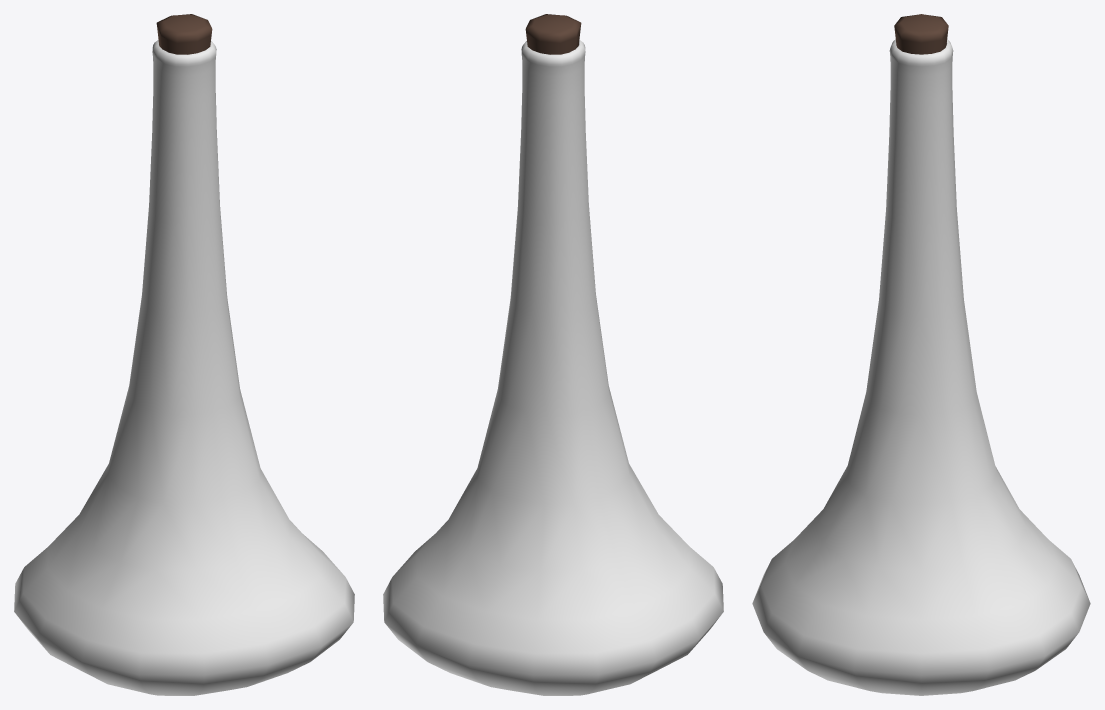
File: Potion1.fbx
3 renders of one model, left to right at view 1: azimuth 30°, elevation 25°; view 2: azimuth 150°, elevation 25°; view 3: azimuth 270°, elevation 25°, orthographic.
Visible parts, largest first — view 1: Potion7_Filled; view 2: Potion7_Filled; view 3: Potion7_Filled.
Part boxes in pixels (box(x1,y1,x2,y2)): Potion7_Filled: box(14, 14, 354, 695); Potion7_Filled: box(383, 14, 723, 695); Potion7_Filled: box(752, 14, 1090, 695).
Size of the model in its own units: 70.35 by 151 by 70.35.
